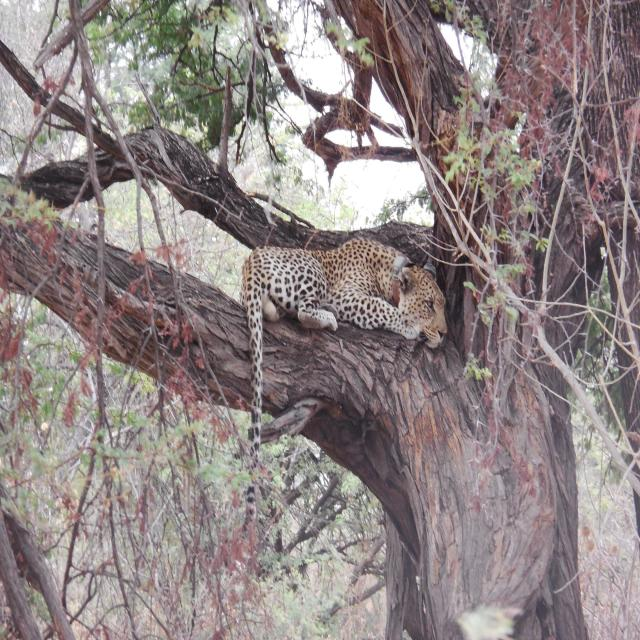Leopard: (242, 238, 455, 537)
